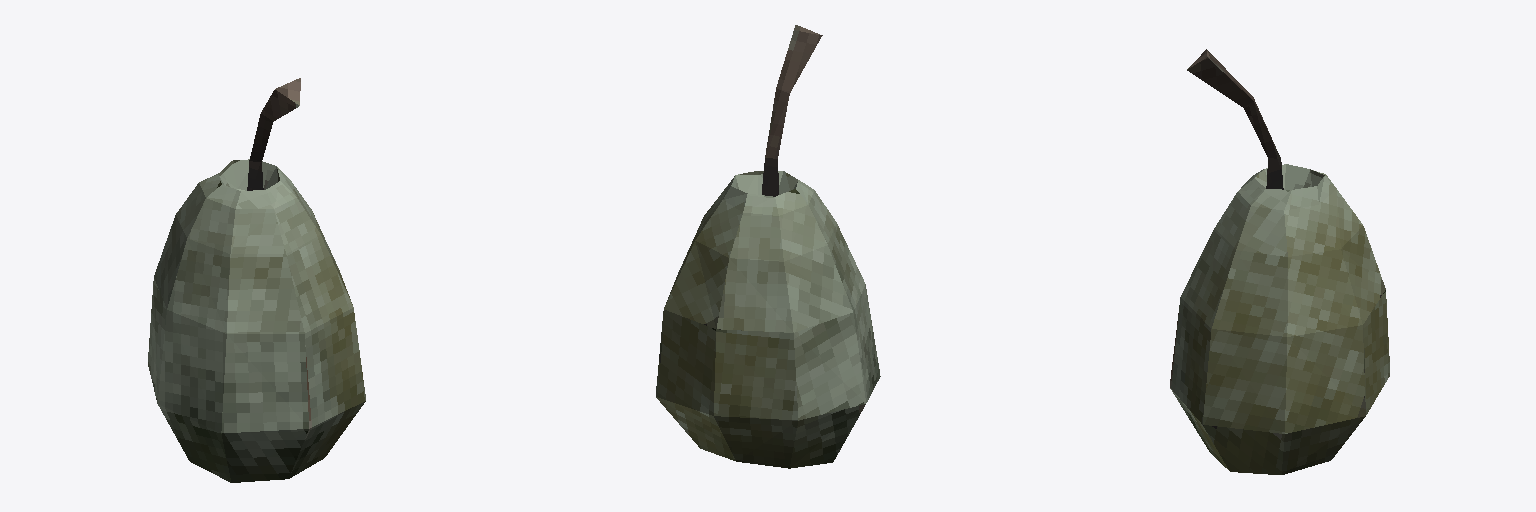
The picture shows the model from 3 angles: view 1: azimuth 30°, elevation 25°; view 2: azimuth 150°, elevation 25°; view 3: azimuth 270°, elevation 25°; orthographic projection.
Parts seen in each view (by area): view 1: pear; view 2: pear; view 3: pear.
Boxes of the visible parts, <box> form: pear: <box>148,78,365,482</box>; pear: <box>656,25,880,468</box>; pear: <box>1170,49,1389,474</box>.
Size of the model in its own units: 1.46 by 2.87 by 1.42.
1 materials, 1 textured.